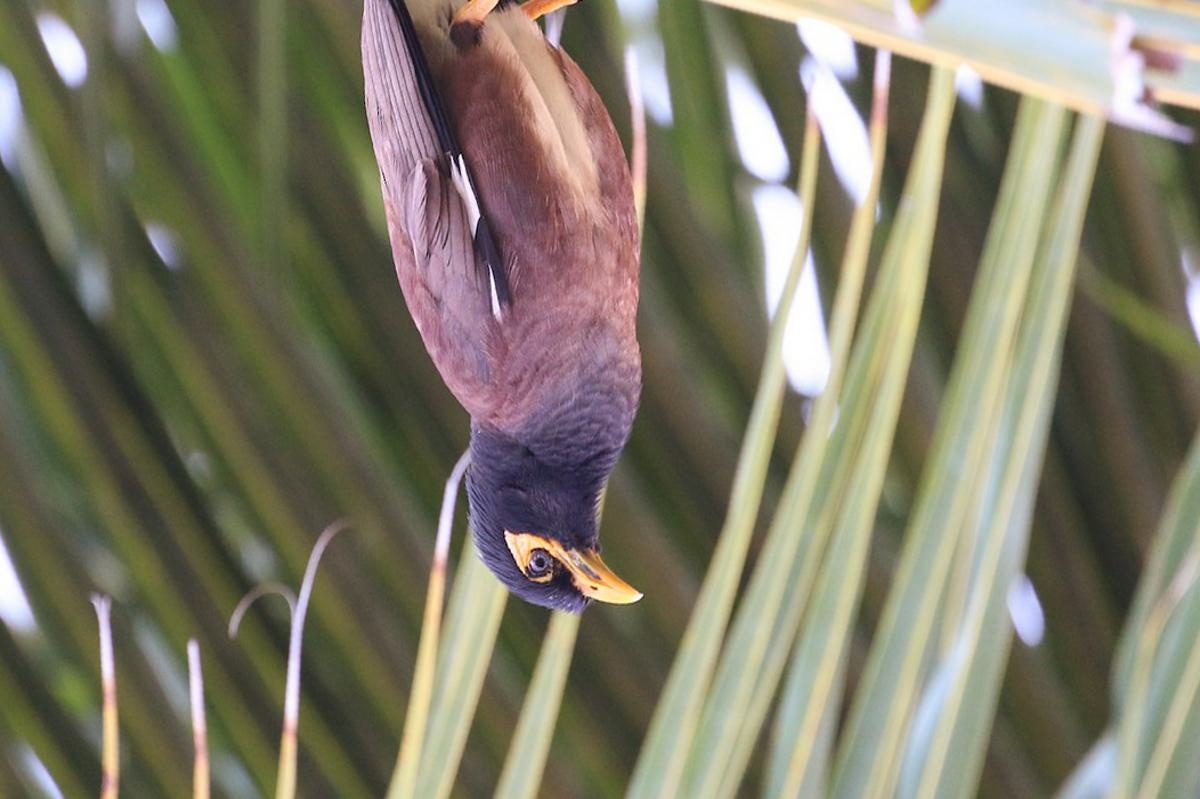myna: (338, 1, 669, 613)
